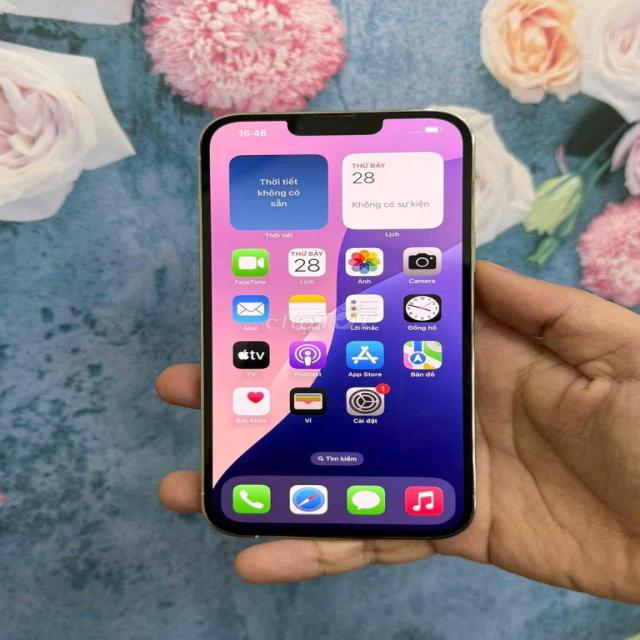gen_12_13: (187, 106, 489, 548)
